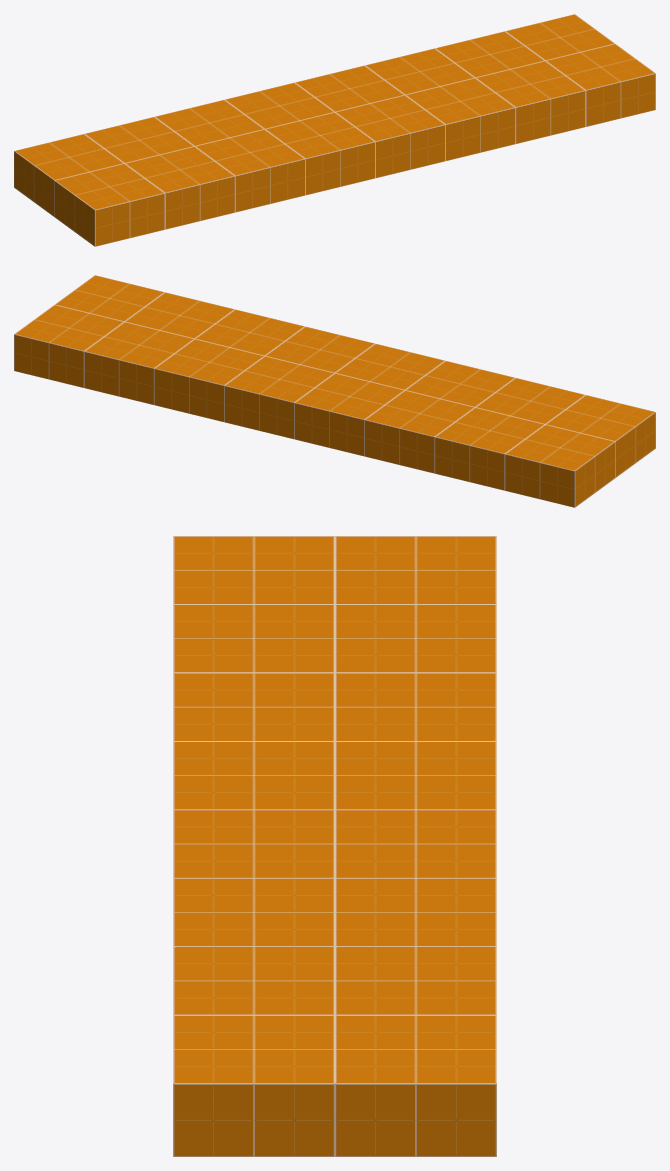
File: Plate2_8x2.obj
3 renders of one model, top to bottom at view 1: azimuth 30°, elevation 25°; view 2: azimuth 150°, elevation 25°; view 3: azimuth 270°, elevation 25°, orthographic. The views are drawn at different scales.
Visible parts, largest first — view 1: Plate2_8x2_Cube.303; view 2: Plate2_8x2_Cube.303; view 3: Plate2_8x2_Cube.303.
Boxes of the visible parts, x1,y1,x2,y2 form: Plate2_8x2_Cube.303: (14, 14, 655, 246); Plate2_8x2_Cube.303: (14, 275, 655, 507); Plate2_8x2_Cube.303: (173, 536, 496, 1156).
Bounding box in the file's own units: 8 × 0.5 × 2.
Materials: 1 (1 with a texture image).
